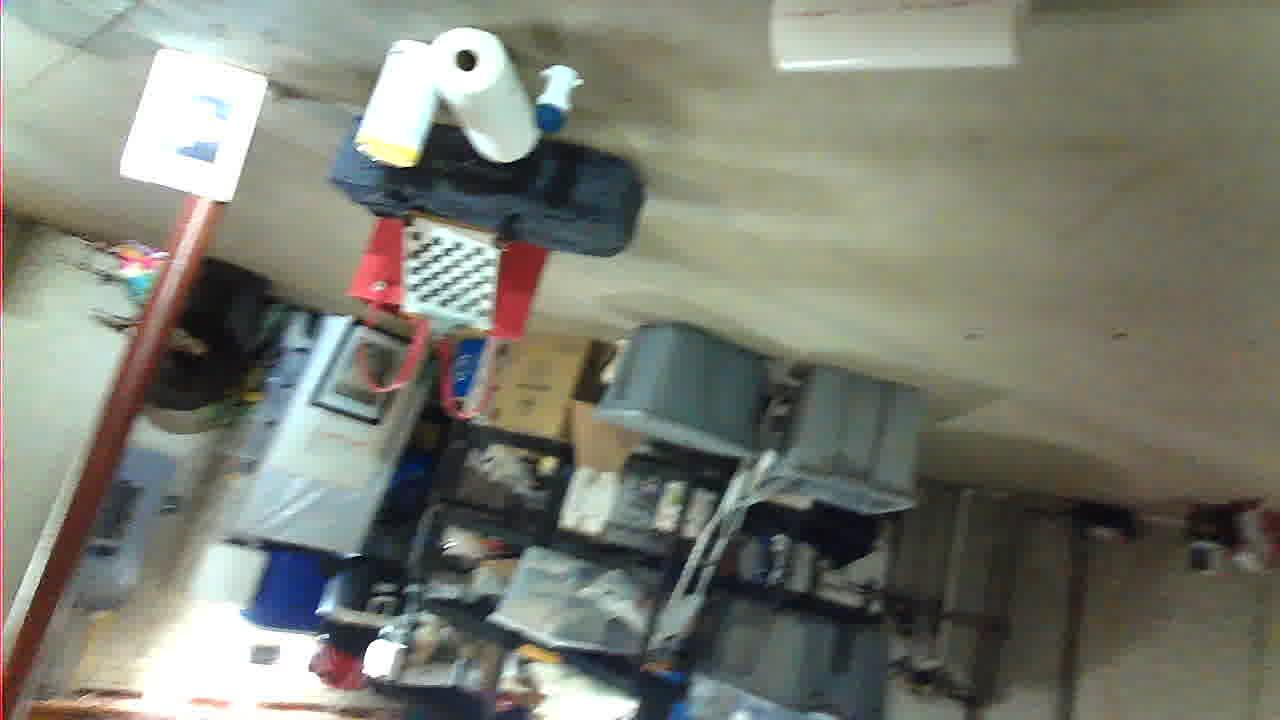coral: (262, 657, 508, 720)
